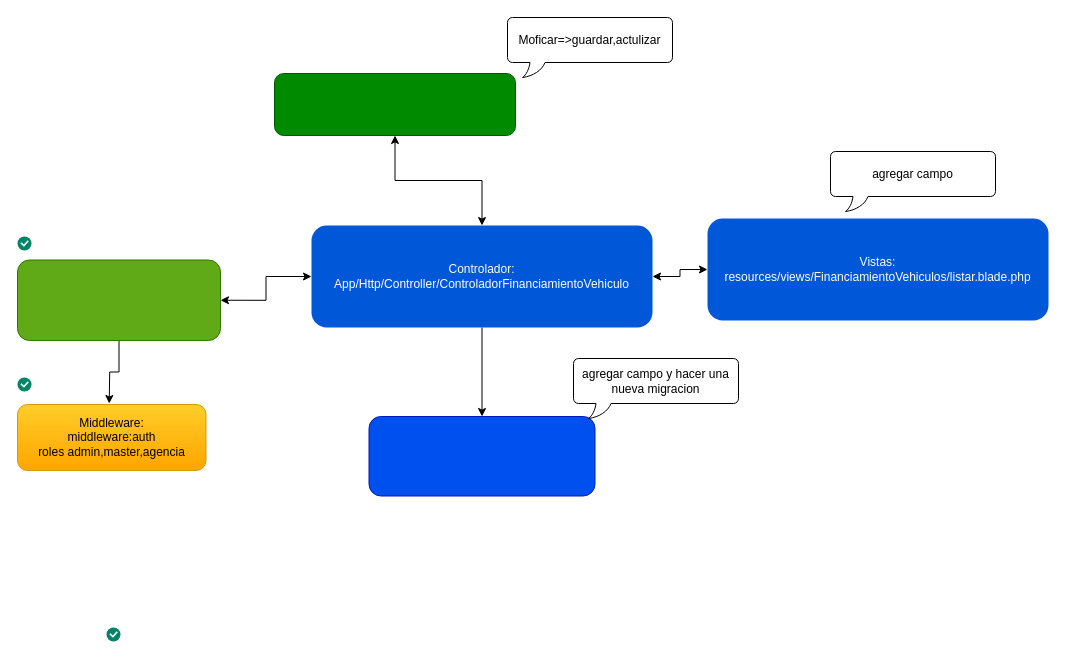
The diagram is 1066 pixels wide and 659 high, and some of its shapes have lost their labels. The shapes that lost their labels are listed below. From the top down, each one's centre as x and y in pixels, then its label:
the point at 395,104: Request: App/Http/Requests/Financiamiento/vehiculo
the point at 118,299: Rutas: Routes/Finansoreal/Financiamiento
the point at 481,456: Modelo App/Models/DetallesFinanciamiento
